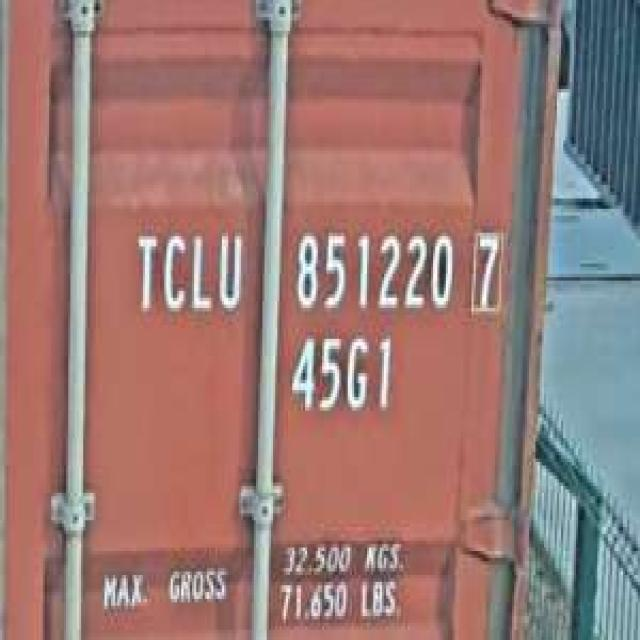dv: (467, 219, 508, 318)
owner: (130, 219, 248, 325)
serial: (288, 219, 457, 322)
size: (286, 328, 397, 424)
